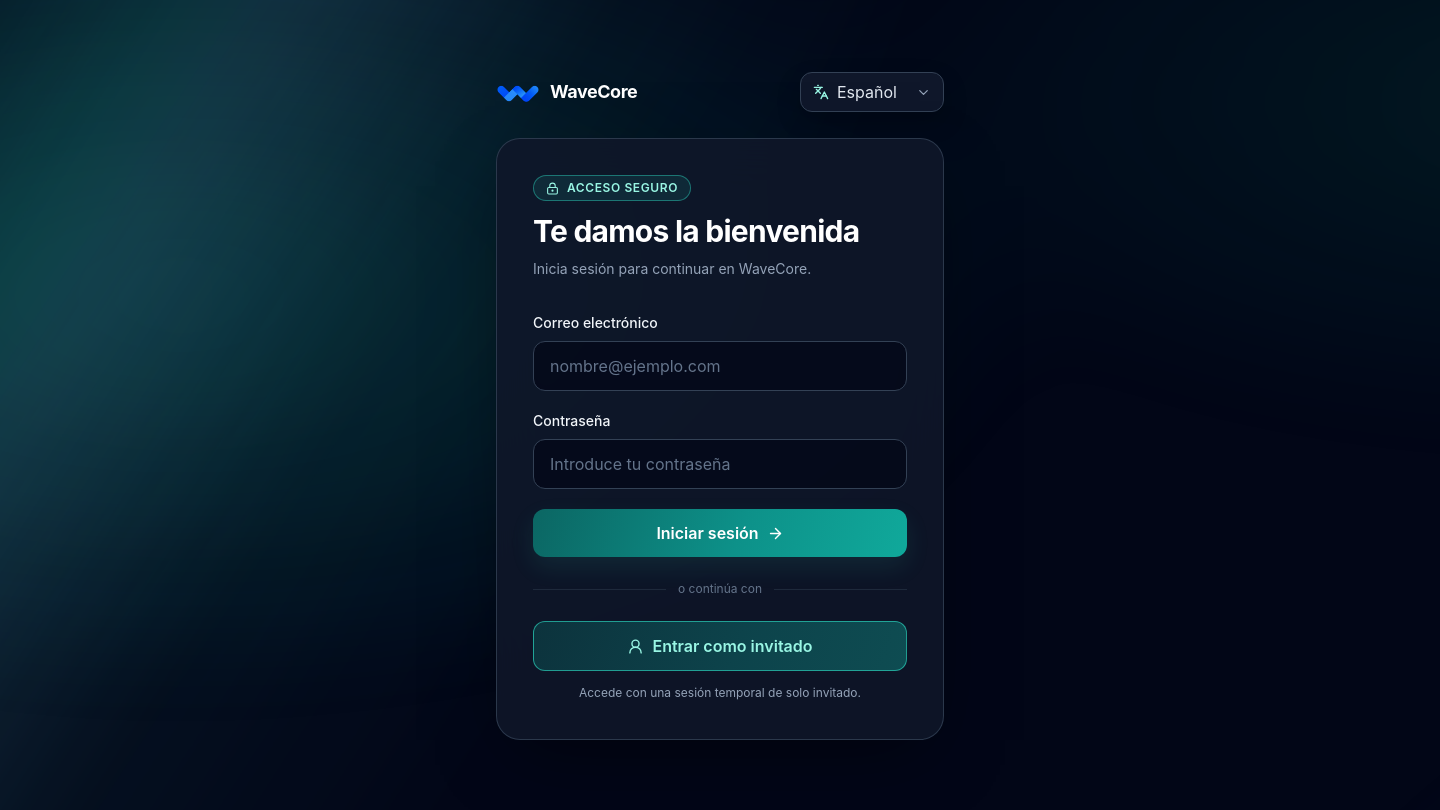
Test: Login › renders the email and password fields and guest sign-in action
The image size is (1440, 810).
Expected: the field labelled "Correo electrónico" is shown, top-left (533, 341), bottom-right (907, 391)
Expected: the password field labelled "Contraseña" is shown, top-left (533, 439), bottom-right (907, 489)
Click the button with aria-label "Idioma" at (872, 92), box top-left (800, 72), bottom-right (944, 112)
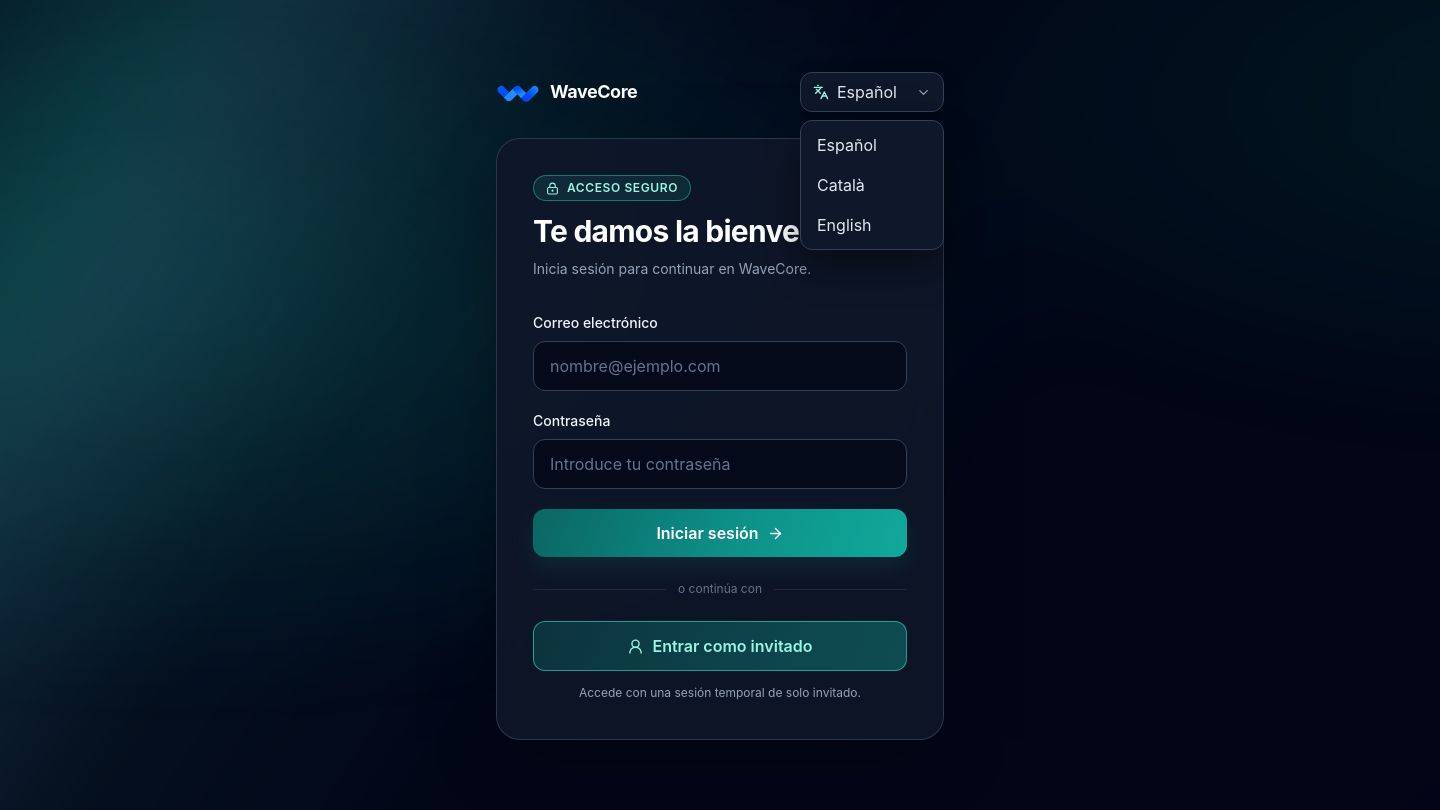
Now the options read "Español", "Català", "English", in this order, box top-left (805, 125), bottom-right (939, 165); top-left (805, 165), bottom-right (939, 205); top-left (805, 205), bottom-right (939, 245)
